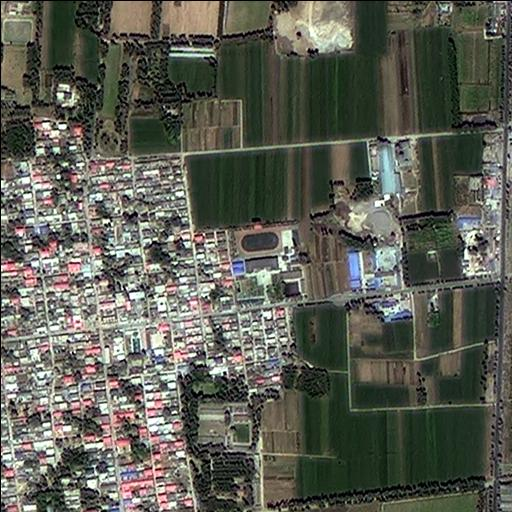school: (227, 220, 295, 304)
